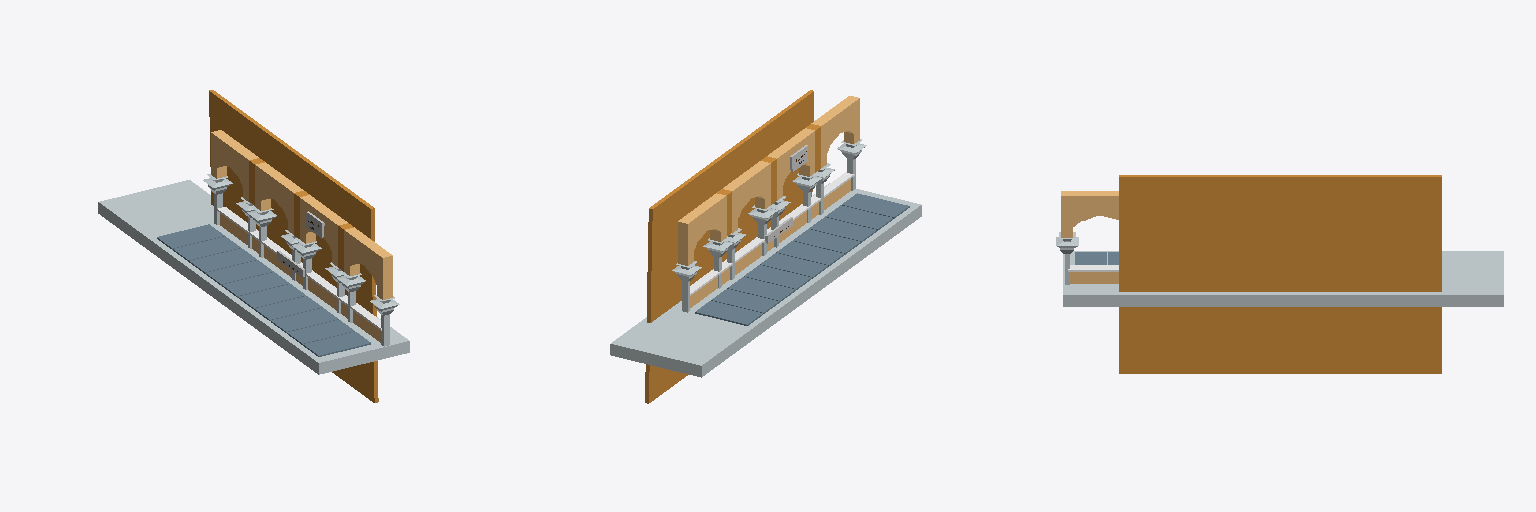
3 views of the same model, side by side, from view 1: azimuth 30°, elevation 25°; view 2: azimuth 150°, elevation 25°; view 3: azimuth 270°, elevation 25° (orthographic).
Visible parts, largest first — view 1: bg; view 2: bg; view 3: bg.
Part boxes in pixels (bbox=[...]): bg: bbox=[98, 90, 409, 402]; bg: bbox=[610, 90, 921, 403]; bg: bbox=[1056, 175, 1503, 373].
Bounding box in the file's own units: 0.9759 × 2 × 4.15.
Materials: 8 (8 with a texture image).